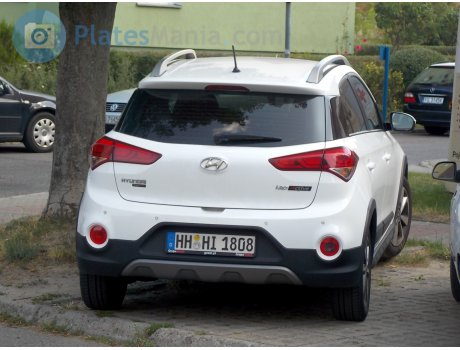License Plates: (166, 233, 245, 251)
